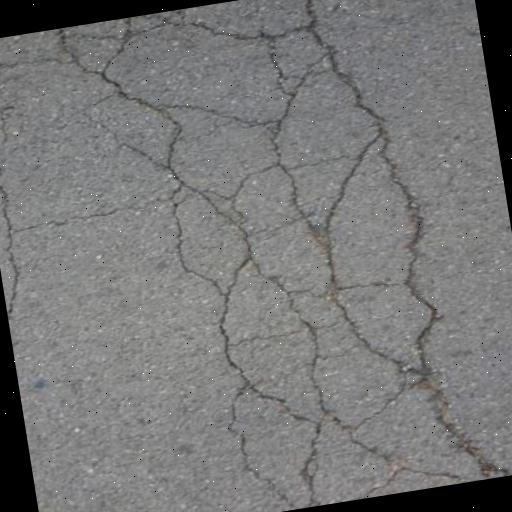spalling: (39, 31, 432, 484), (286, 0, 511, 474), (311, 136, 411, 379), (259, 44, 325, 246), (158, 5, 300, 57), (0, 147, 34, 340), (0, 66, 20, 126)
